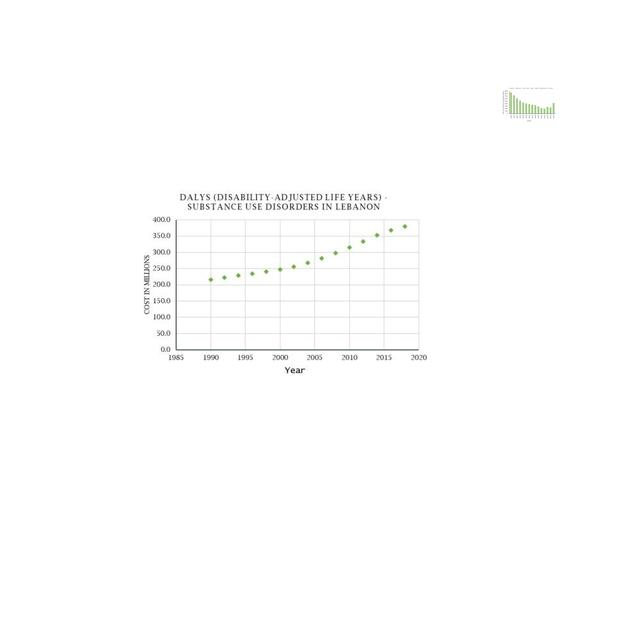Graph: (138, 190, 431, 377), (501, 87, 556, 123)
